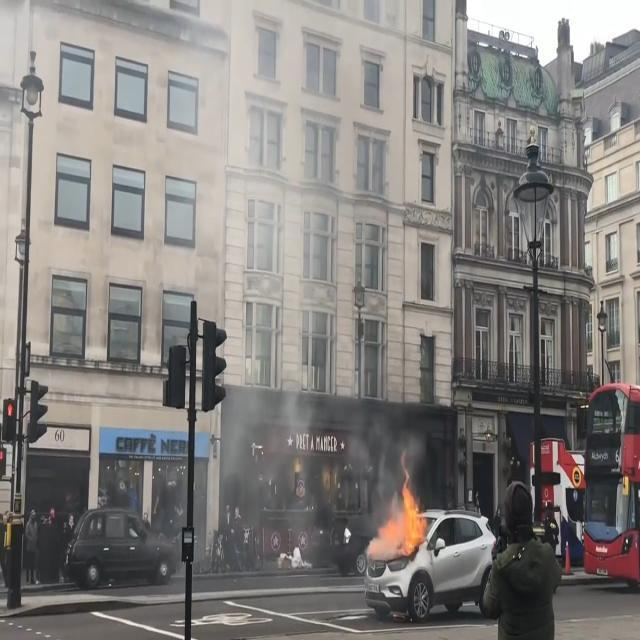fire: (364, 484, 429, 556)
